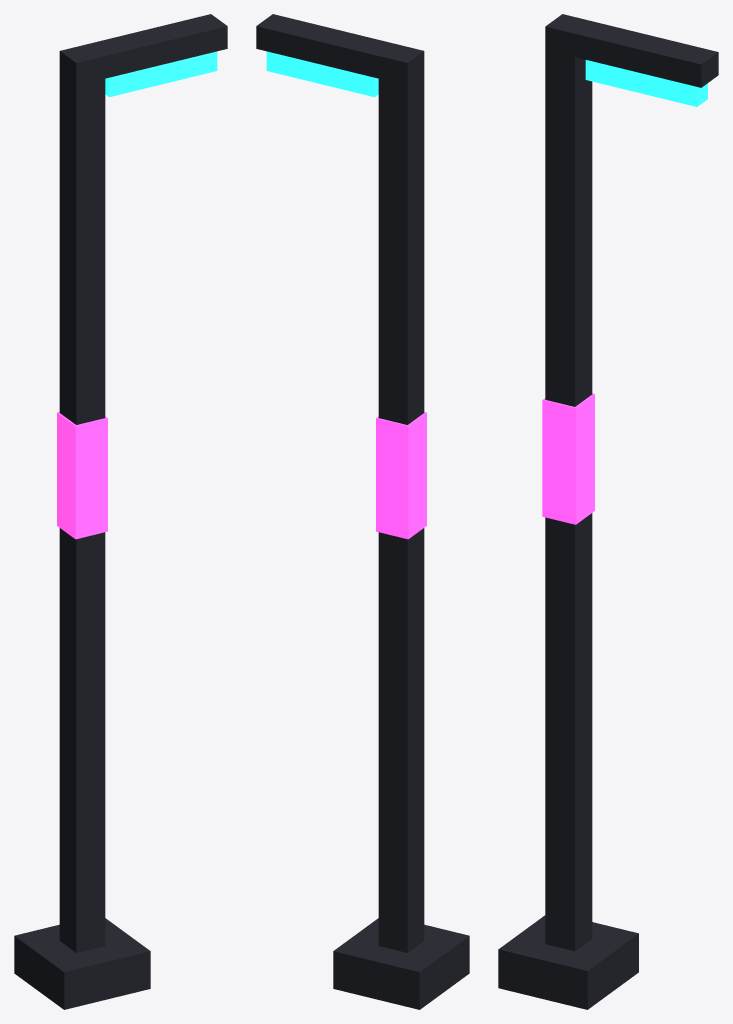
Rendered from cyb-poste-neon.gltf.
The picture shows the model from 3 angles, left to right: view 1: azimuth 30°, elevation 25°; view 2: azimuth 150°, elevation 25°; view 3: azimuth 330°, elevation 25°; orthographic projection. The views are drawn at different scales.
Visible parts, largest first — view 1: cyb-poste-neon; view 2: cyb-poste-neon; view 3: cyb-poste-neon.
Boxes of the visible parts, bbox=[...] form: cyb-poste-neon: bbox=[14, 14, 227, 1009]; cyb-poste-neon: bbox=[256, 14, 469, 1009]; cyb-poste-neon: bbox=[498, 14, 718, 1009].
Size of the model in its own units: 0.5 by 2.46 by 0.24.
